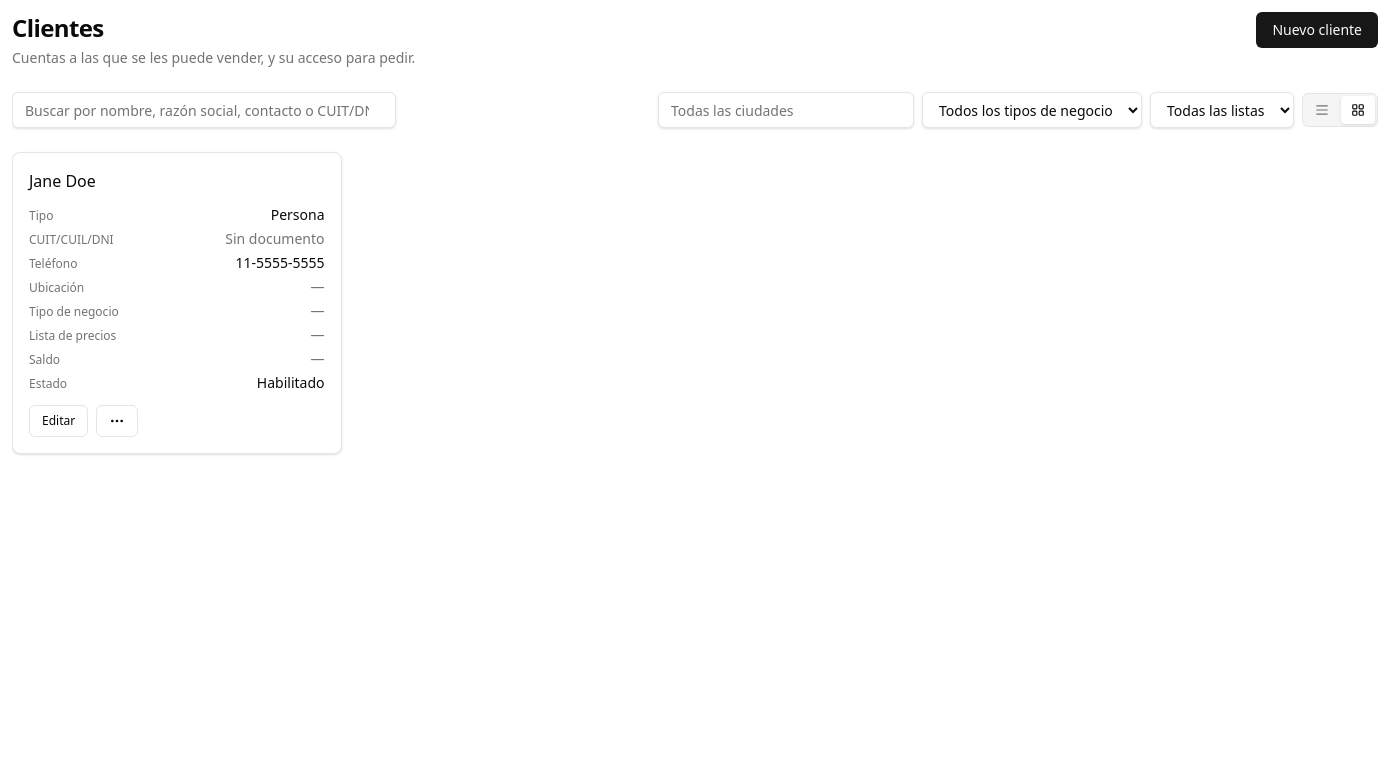
it: CustomersScreen › still edits a customer from the card view
The image size is (1390, 778).
Expected: the text "Jane Doe" is shown, [29, 170, 96, 192]
Expected: the number of elements with test id "data-view-card" is 1, [12, 152, 342, 454]
What coordinates should you click on to do the following:
click the button "Editar"
I would click on:
 (59, 421)
Its box is [29, 405, 88, 437].
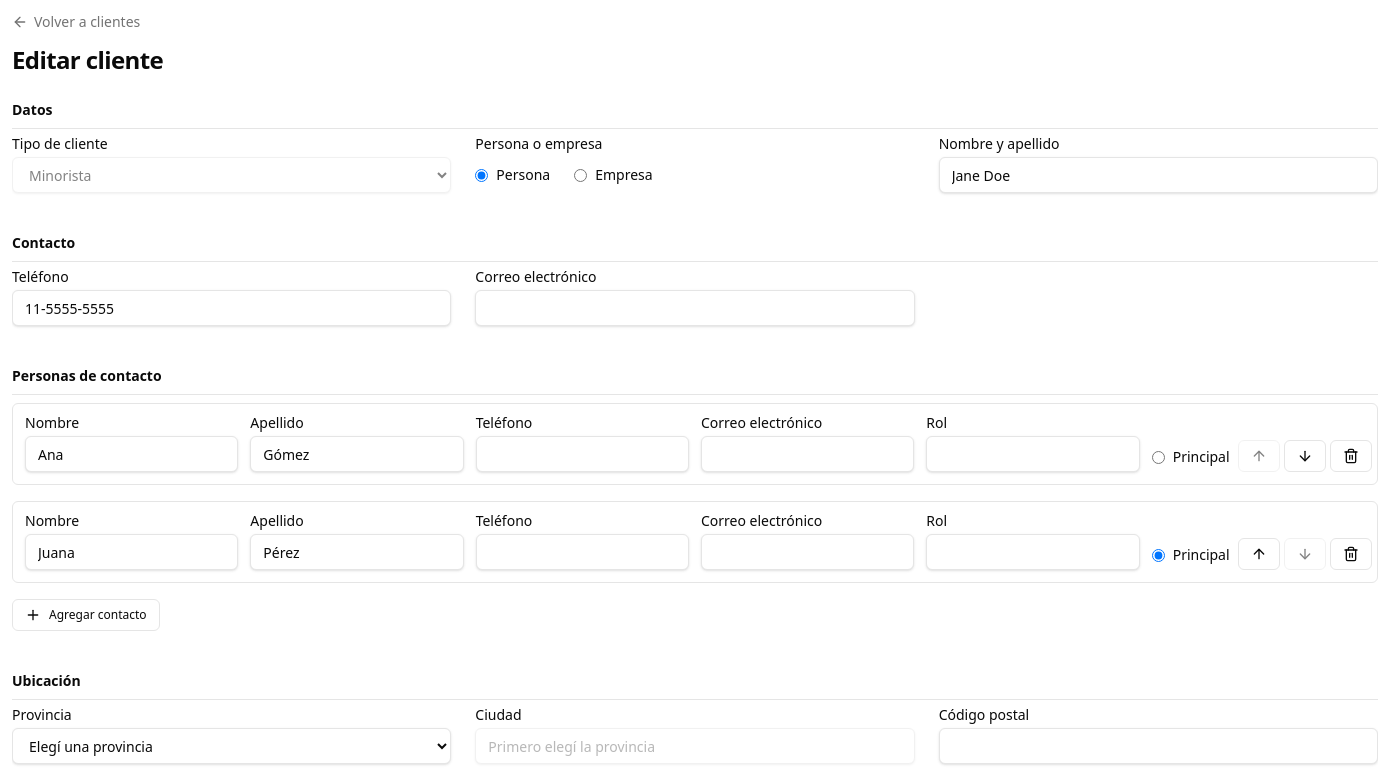
Expected: the heading "Editar cliente" is shown, [12, 43, 163, 76]
